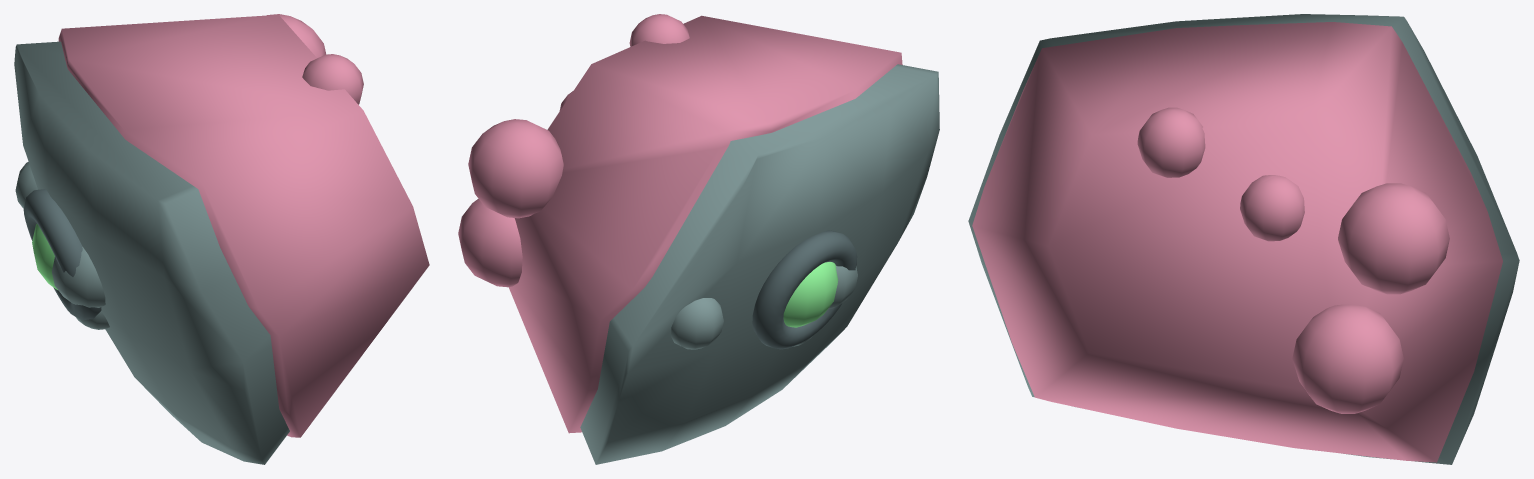
File: chunk12.glb
3 renders of one model, left to right at view 1: azimuth 30°, elevation 25°; view 2: azimuth 150°, elevation 25°; view 3: azimuth 270°, elevation 25°, orthographic. The views are drawn at different scales.
Parts seen in each view (by area): view 1: flesh, skin, lip, glow; view 2: flesh, skin, lip, glow; view 3: flesh, skin.
Boxes of the visible parts, <box> form: flesh: <box>58,14,429,437</box>; skin: <box>14,41,289,464</box>; lip: <box>23,189,101,320</box>; glow: <box>32,224,57,289</box>; flesh: <box>458,14,902,433</box>; skin: <box>580,64,939,464</box>; lip: <box>752,230,857,349</box>; glow: <box>783,262,838,327</box>; flesh: <box>972,22,1502,462</box>; skin: <box>968,14,1519,464</box>.
Bounding box in the file's own units: 0.7675 × 0.7352 × 0.9313.
